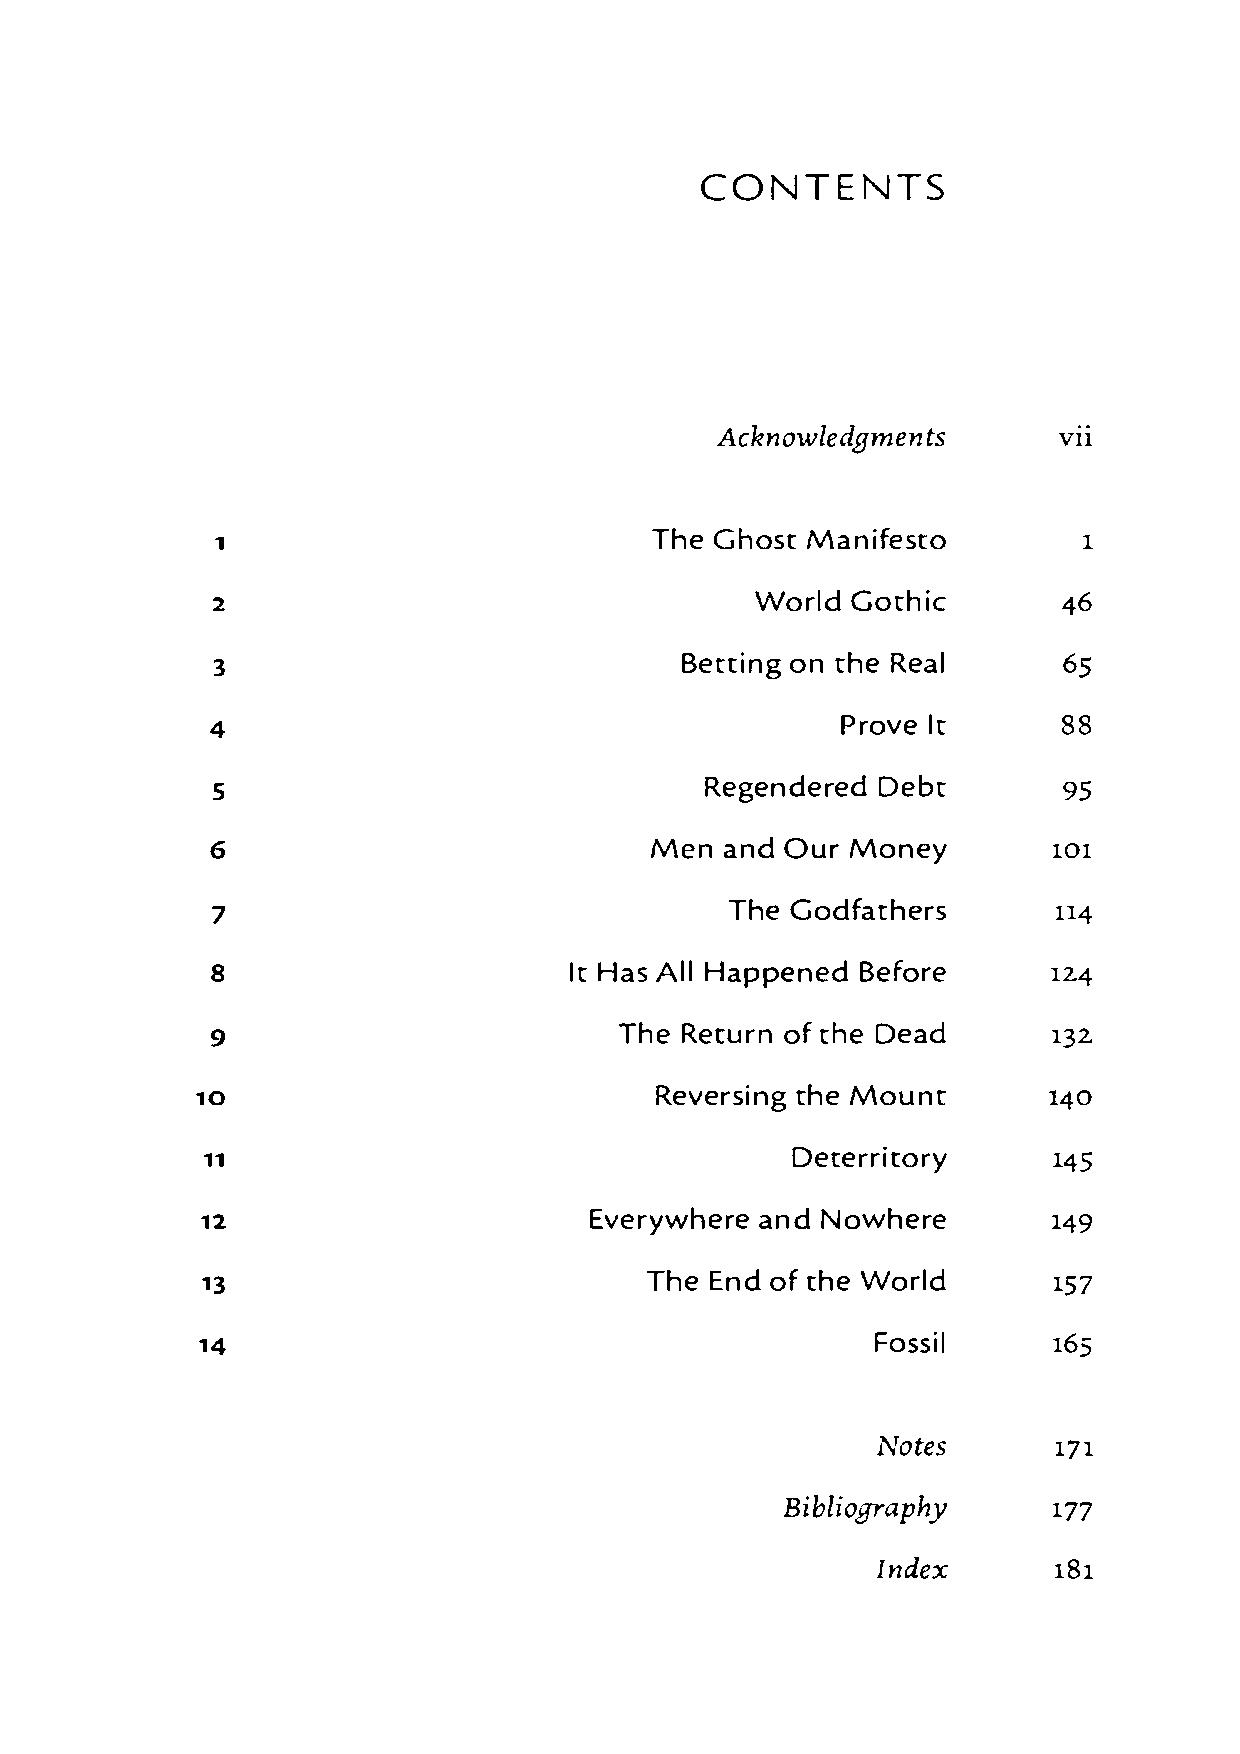TOC_chapter: (208, 582, 943, 619), (208, 832, 946, 867), (197, 1326, 947, 1358), (207, 523, 951, 556), (208, 707, 946, 739), (200, 1145, 945, 1174), (207, 648, 947, 678), (208, 896, 946, 926), (211, 773, 947, 803), (197, 1206, 950, 1235), (196, 1080, 947, 1108), (203, 1020, 951, 1048), (205, 956, 949, 984), (195, 1267, 949, 1292), (709, 415, 950, 454), (777, 1491, 947, 1523), (872, 1550, 949, 1582), (870, 1431, 947, 1460)
TOC_pagenumber: (1044, 957, 1096, 990), (1048, 1023, 1098, 1053), (1044, 1082, 1094, 1113), (1048, 1143, 1094, 1177), (1045, 837, 1096, 866), (1055, 413, 1094, 450), (1044, 1208, 1095, 1235), (1048, 1554, 1094, 1584), (1048, 1432, 1092, 1461), (1057, 706, 1096, 739), (1049, 1494, 1091, 1525), (1049, 1329, 1091, 1358), (1057, 770, 1092, 805), (1055, 650, 1096, 678), (1048, 900, 1096, 925), (1060, 584, 1092, 619), (1049, 1270, 1091, 1296), (1070, 527, 1095, 557)
chapter: (692, 158, 945, 204)
